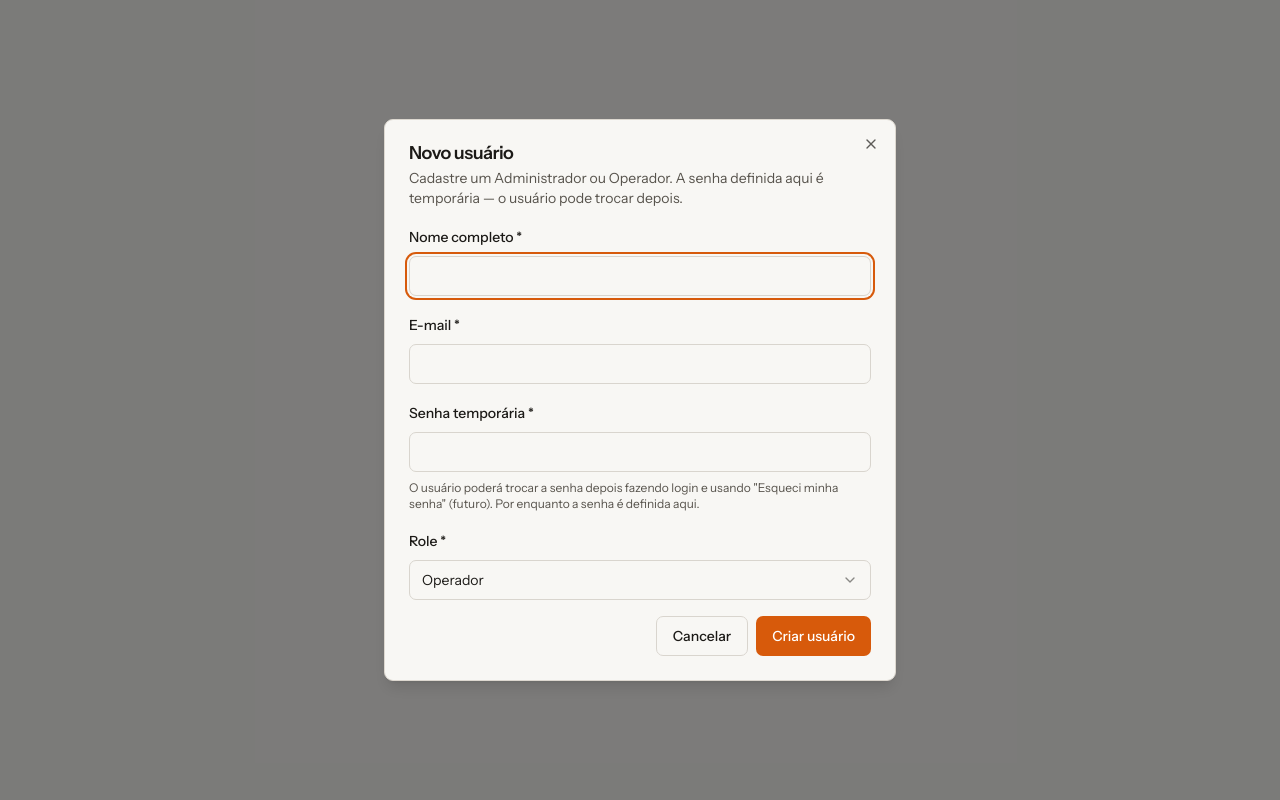
Scenario: <NovoUsuarioDialog> › mostra erros de validação zod quando campos estão vazios
Click the button "Criar usuário" at (814, 636), box x1=756 y1=616 x2=871 y2=656
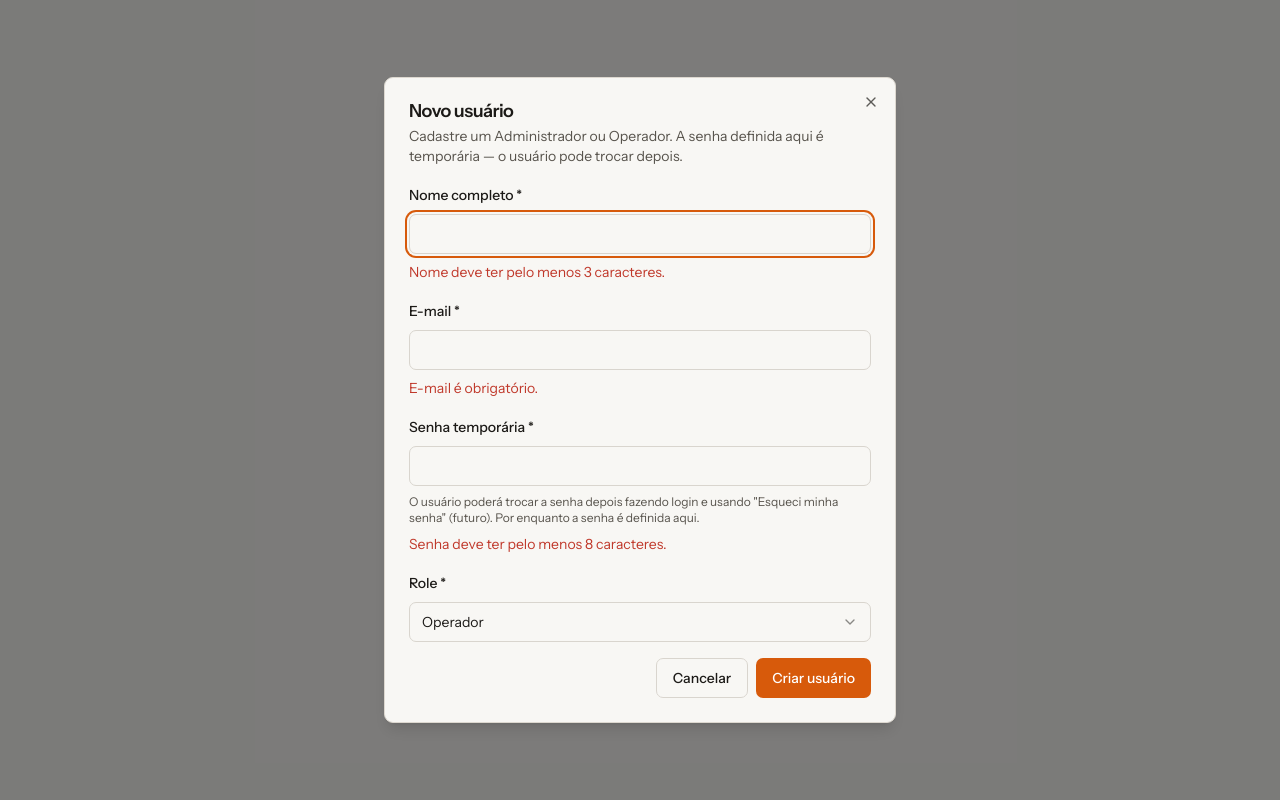
Check: the text "Nome deve ter pelo menos 3 caracteres." is shown, box x1=409 y1=263 x2=665 y2=281
Check: the text "E-mail é obrigatório." is shown, box x1=409 y1=379 x2=538 y2=397
Check: the text "Senha deve ter pelo menos 8 caracteres." is shown, box x1=409 y1=535 x2=666 y2=553
